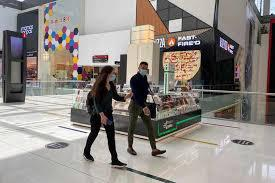Person: (127, 63, 166, 159), (90, 65, 121, 163)
